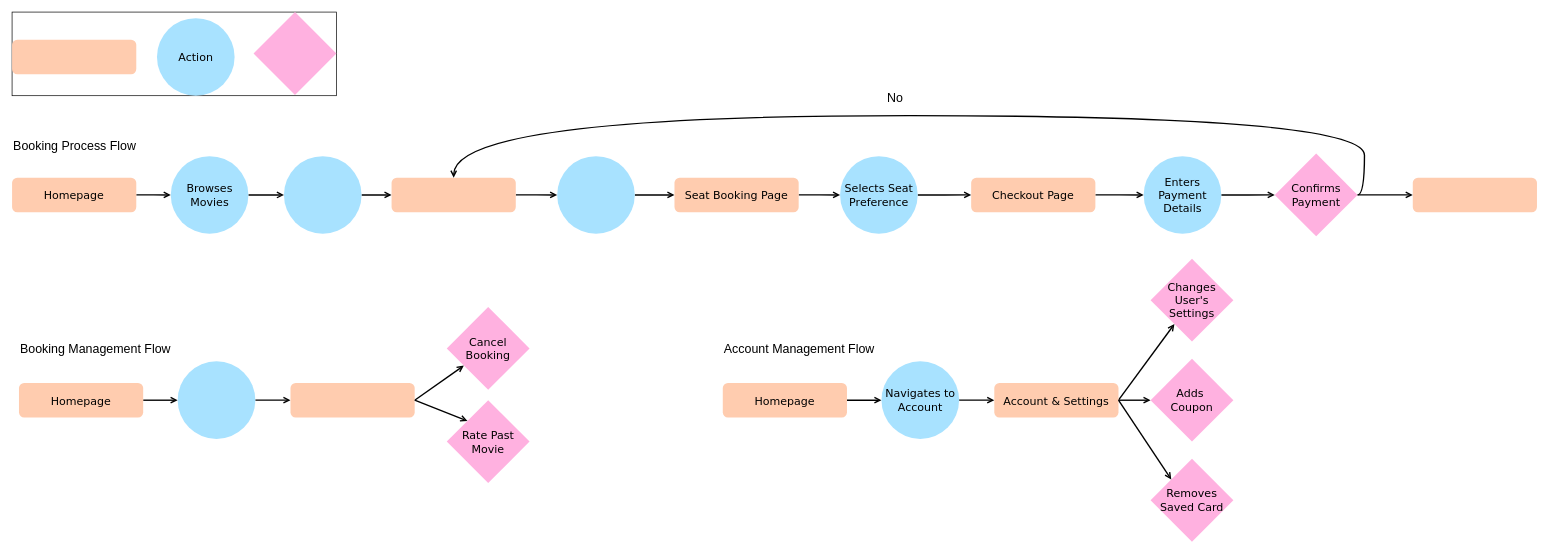
The diagram is 1549 pixels wide and 553 high, and some of its shapes have lost their labels. Each missing label, with the box of its shape:
Booking Confirmation Page: (1412, 177, 1537, 212)
Bookings Page: (290, 383, 414, 417)
Chooses Date, Time & Tickets: (557, 156, 634, 233)
Desicion: (253, 12, 336, 95)
Movie Details Page: (391, 177, 515, 212)
Navigates to Bookings: (177, 361, 255, 439)
Screen: (12, 39, 136, 74)
Selects a Movie: (284, 156, 361, 233)
